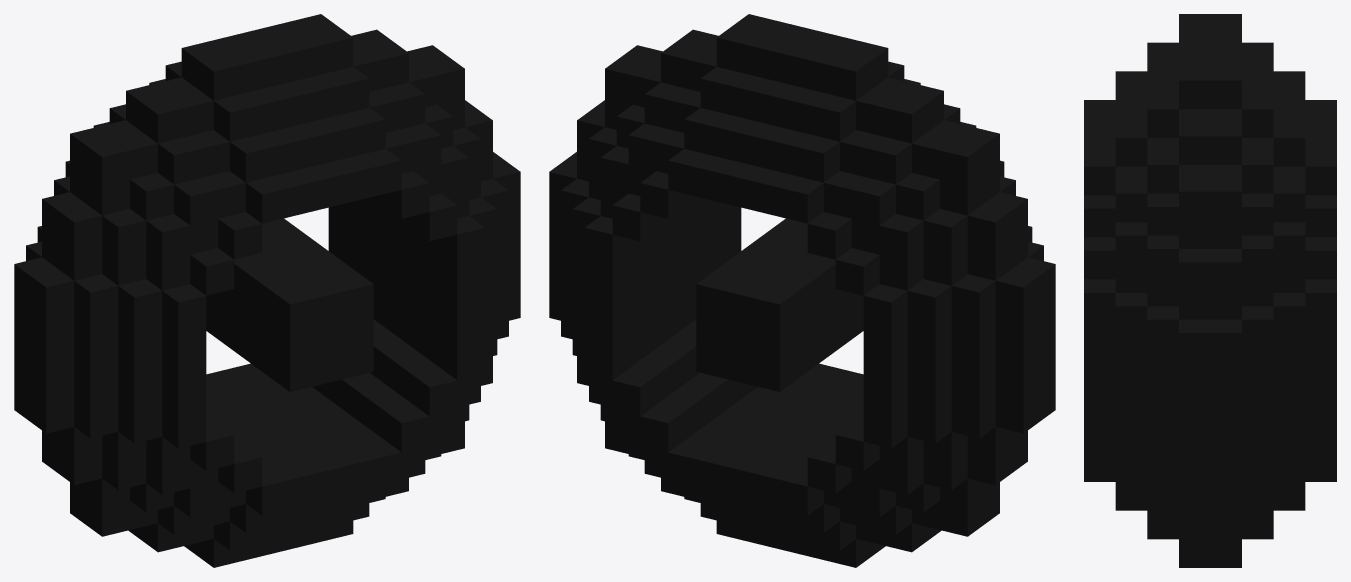
File: Moto_llantaFrente.obj
The picture shows the model from 3 angles, left to right: view 1: azimuth 30°, elevation 25°; view 2: azimuth 150°, elevation 25°; view 3: azimuth 270°, elevation 25°; orthographic projection.
Parts seen in each view (by area): view 1: Moto_llantaFrente; view 2: Moto_llantaFrente; view 3: Moto_llantaFrente.
Boxes of the visible parts, bbox=[...] form: Moto_llantaFrente: bbox=[14, 14, 520, 567]; Moto_llantaFrente: bbox=[549, 14, 1055, 567]; Moto_llantaFrente: bbox=[1084, 14, 1336, 567].
Bounding box in the file's own units: 1.7 × 1.7 × 0.8.
Materials: 1 (1 with a texture image).
